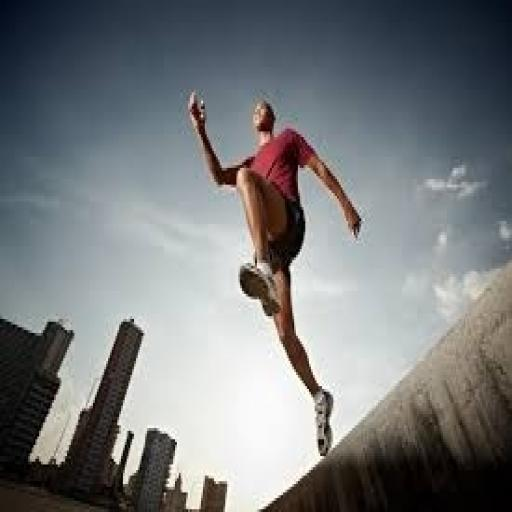running: (184, 87, 365, 459)
